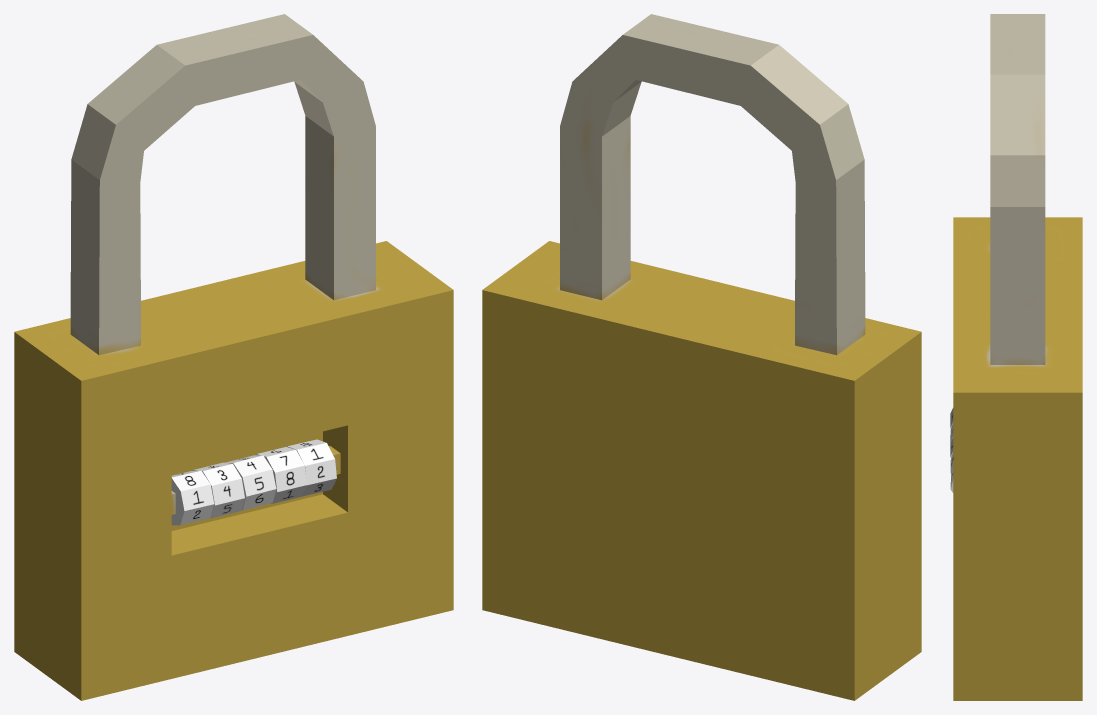
File: Rolling_lock.fbx
3 views of the same model, side by side, from view 1: azimuth 30°, elevation 25°; view 2: azimuth 150°, elevation 25°; view 3: azimuth 270°, elevation 25° (orthographic). The views are drawn at different scales.
Visible parts, largest first — view 1: Lock, Roll_number, Roll_number3, Roll_number2, Roll_number4, Roll_number1; view 2: Lock; view 3: Lock.
Boxes of the visible parts, box(x1,y1,x2,y2) form: Lock: box(14, 14, 453, 700); Roll_number: box(171, 470, 214, 525); Roll_number3: box(256, 447, 306, 503); Roll_number2: box(226, 455, 276, 510); Roll_number4: box(287, 439, 336, 496); Roll_number1: box(193, 462, 244, 518); Lock: box(482, 14, 921, 700); Lock: box(953, 14, 1082, 700).
Size of the model in its own units: 2.04 by 3.1 by 0.6518.
